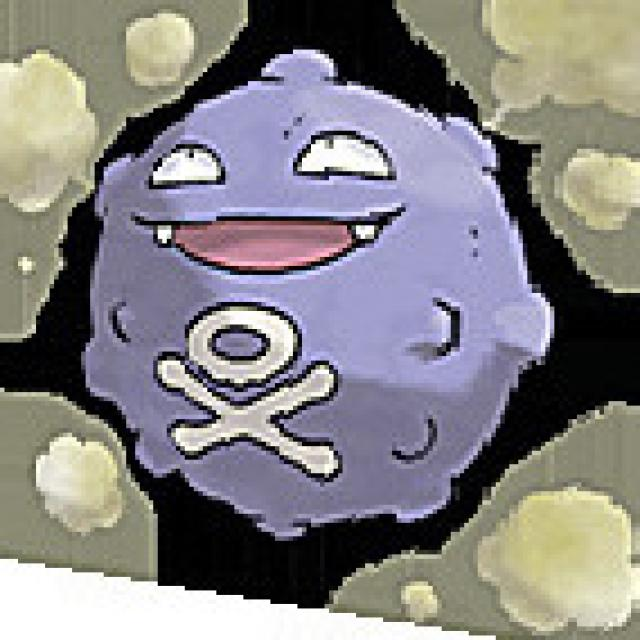Koffing: (83, 50, 551, 518)
